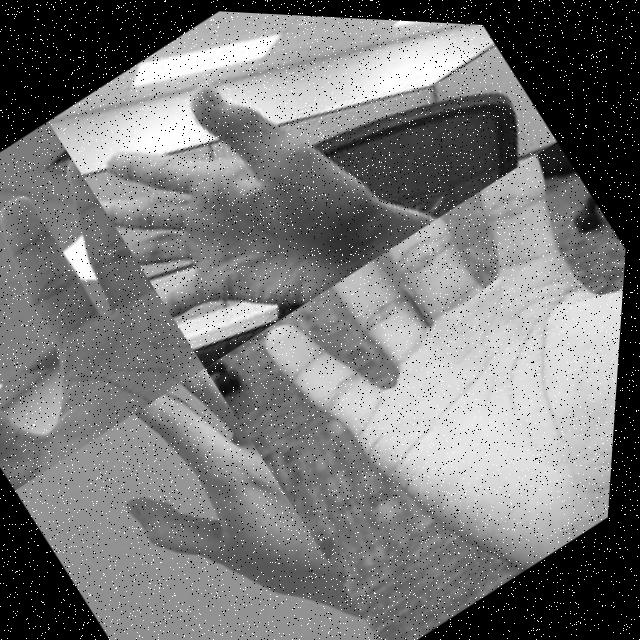hand: (245, 121, 634, 625), (65, 27, 410, 372), (79, 360, 377, 640), (0, 149, 219, 496)
